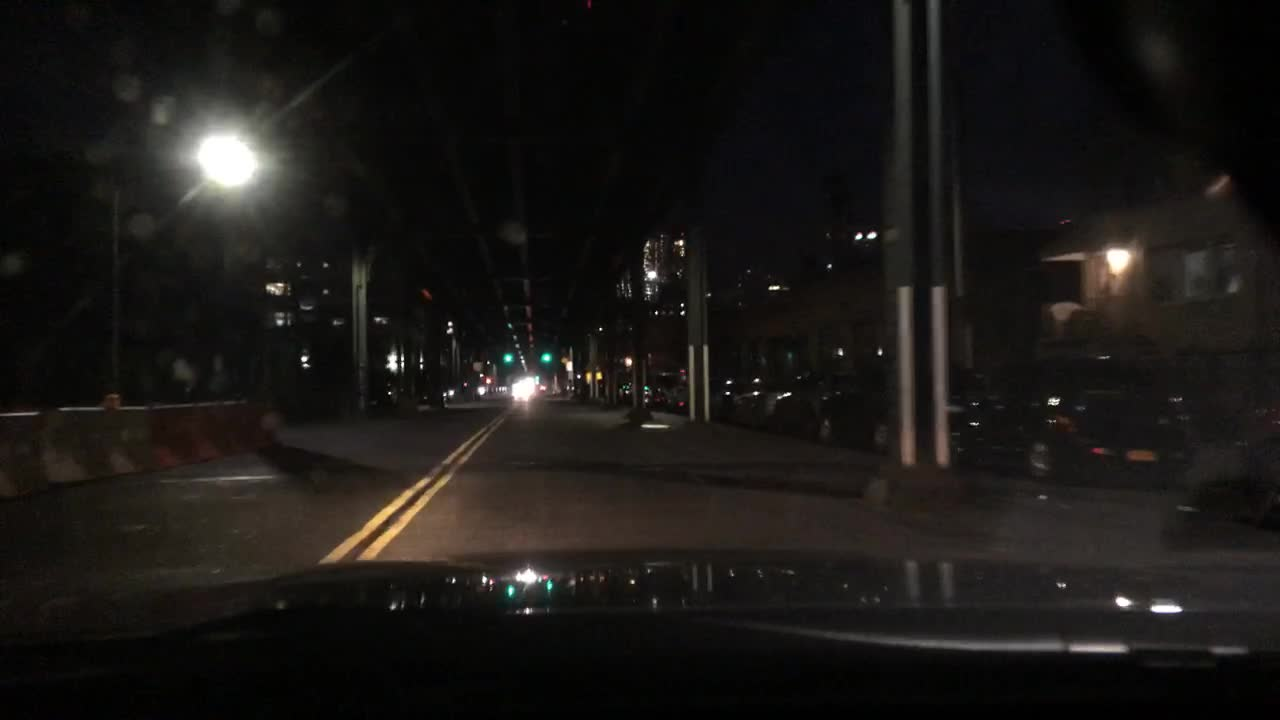car: (1166, 422, 1277, 563), (1031, 383, 1191, 479), (960, 377, 1097, 469), (892, 382, 972, 460), (813, 376, 898, 447), (775, 376, 825, 428), (732, 390, 787, 422), (396, 377, 446, 411), (694, 382, 738, 414), (663, 377, 689, 414), (459, 371, 491, 400), (643, 377, 669, 402), (513, 381, 536, 400), (616, 379, 634, 402)
traffic light: (503, 350, 514, 363), (542, 351, 551, 364)
